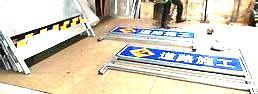sign: (122, 46, 245, 69), (113, 26, 194, 38)
